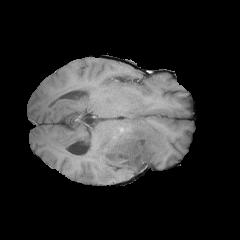glioma: (89, 119, 170, 184)
